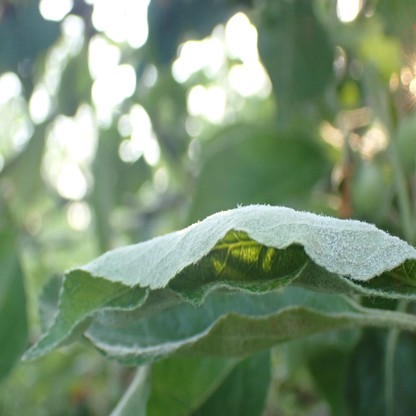powdery_mildew: (19, 204, 416, 364)
